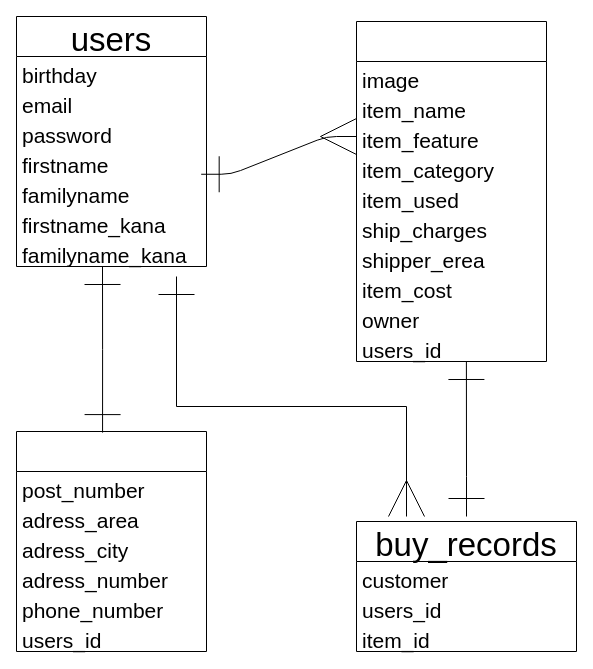
Image size: 593x669. Some labels were removed from this diagram. The box of each missing label's shape, as (x1, y1, x2, y2) in pixels:
get_points: (16, 430, 206, 652)
items: (356, 20, 546, 362)
